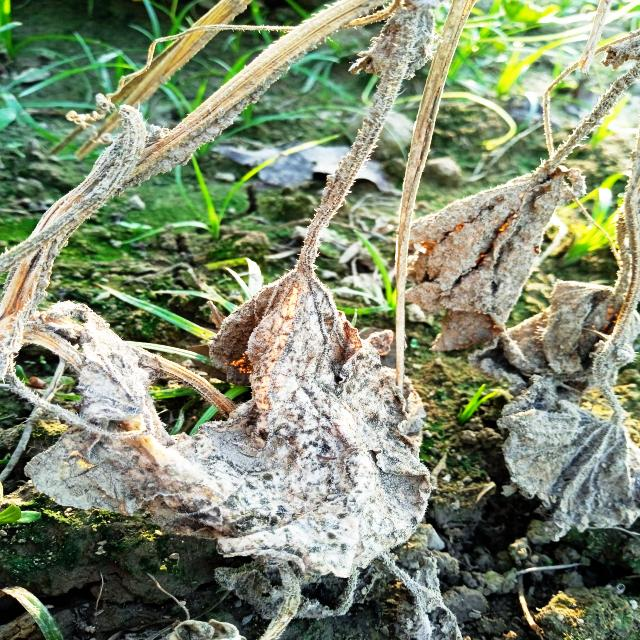Bacterial-Wilt: (24, 268, 431, 623), (401, 160, 592, 355), (497, 373, 640, 547)
